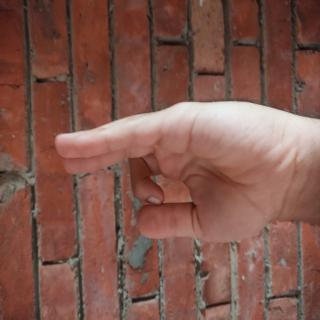Space: (50, 62, 177, 320)
